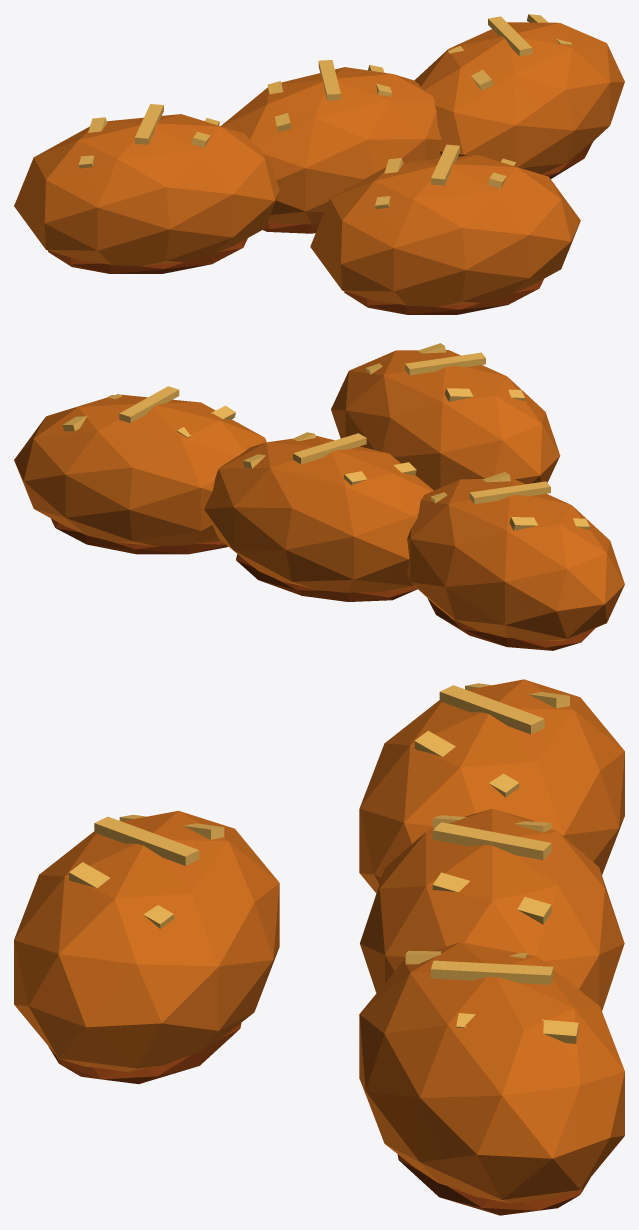
File: pile-bread-4.obj
3 renders of one model, top to bottom at view 1: azimuth 30°, elevation 25°; view 2: azimuth 150°, elevation 25°; view 3: azimuth 270°, elevation 25°, orthographic. The views are drawn at different scales.
Visible parts, largest first — view 1: pile-bread-4; view 2: pile-bread-4; view 3: pile-bread-4.
Boxes of the visible parts, x1=… form: pile-bread-4: x1=14, y1=14, x2=624, y2=314; pile-bread-4: x1=14, y1=343, x2=624, y2=650; pile-bread-4: x1=14, y1=679, x2=624, y2=1215.
Size of the model in its own units: 0.8843 by 0.2025 by 0.5306.
Materials: 1 (1 with a texture image).
